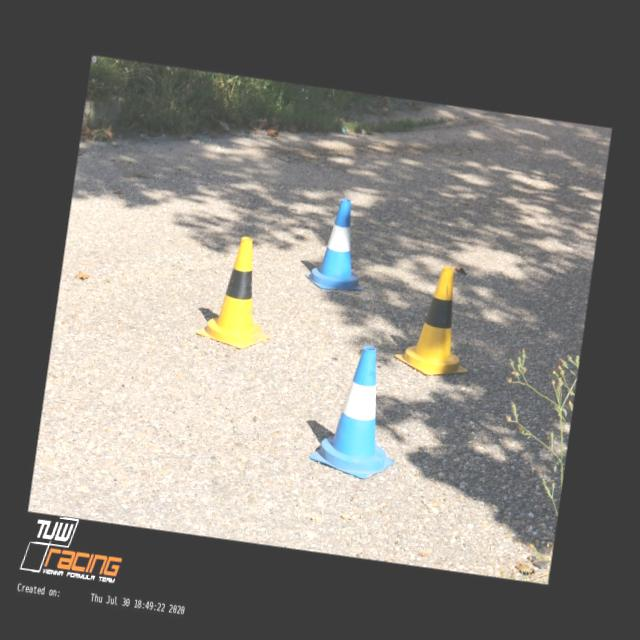blue_cone: (307, 341, 408, 482), (304, 196, 376, 294)
yellow_cone: (392, 262, 482, 379), (195, 232, 282, 352)
